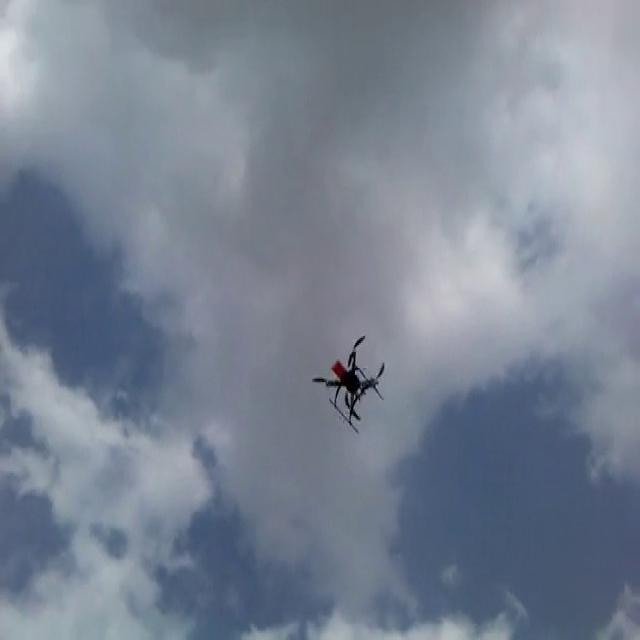drone: (308, 331, 385, 434)
